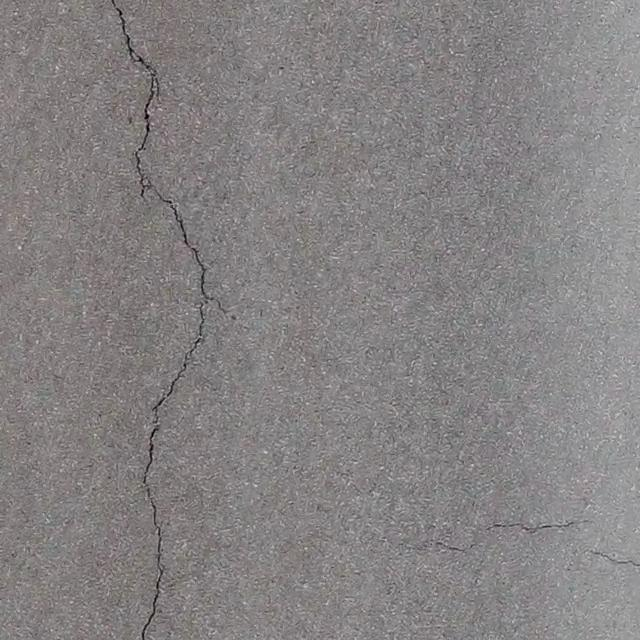GRIETA: (110, 0, 208, 639), (487, 520, 588, 534), (589, 550, 639, 568)
